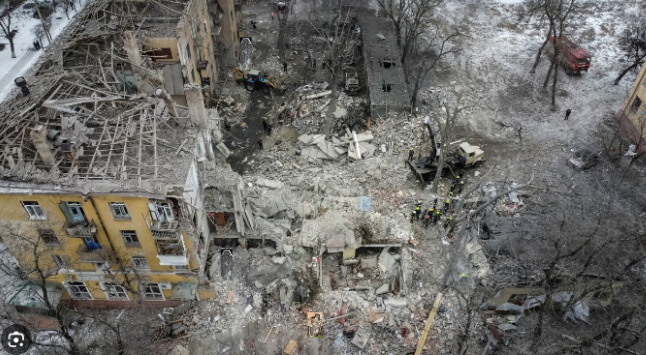HVT1: (240, 38, 252, 68), (221, 250, 232, 278), (311, 313, 321, 336)
